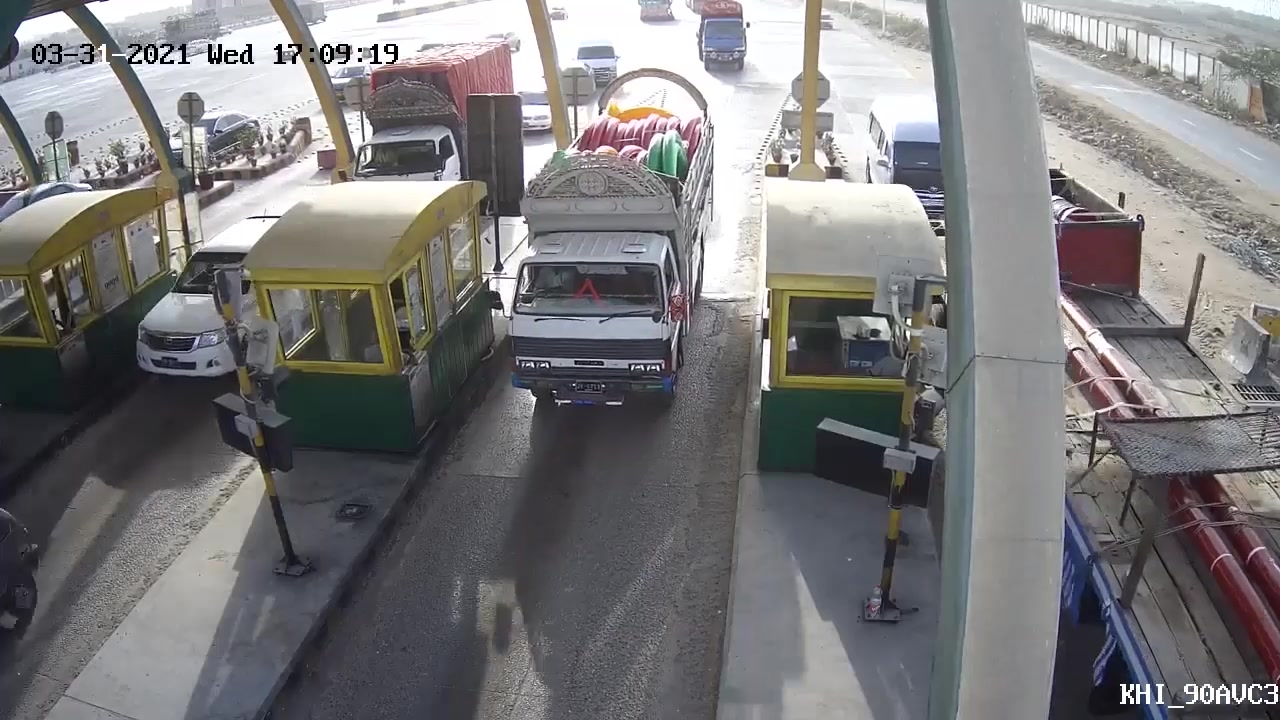F5: (490, 73, 731, 430)
